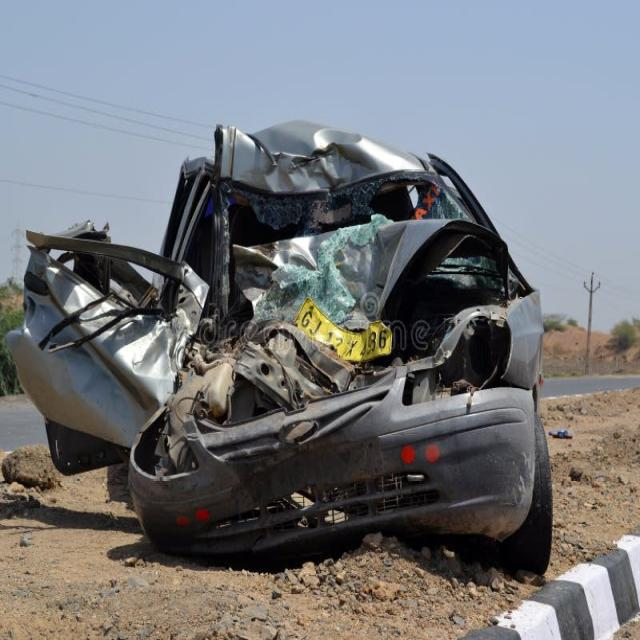accident: (6, 120, 554, 573)
